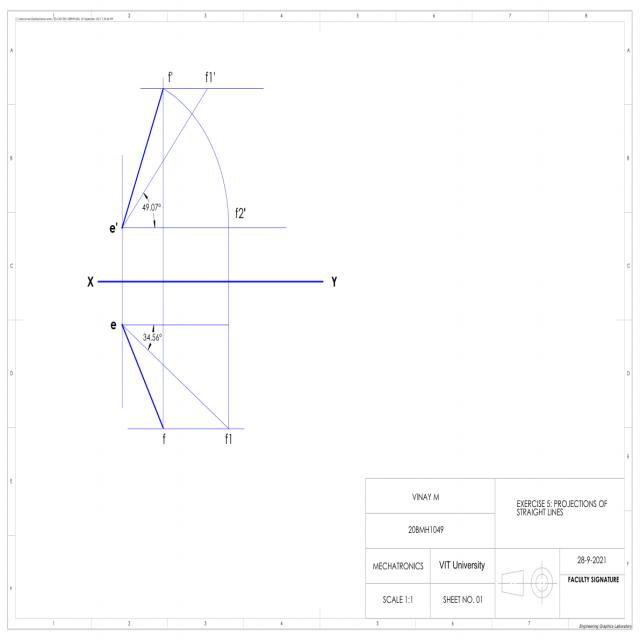Drawings: (95, 66, 289, 462)
